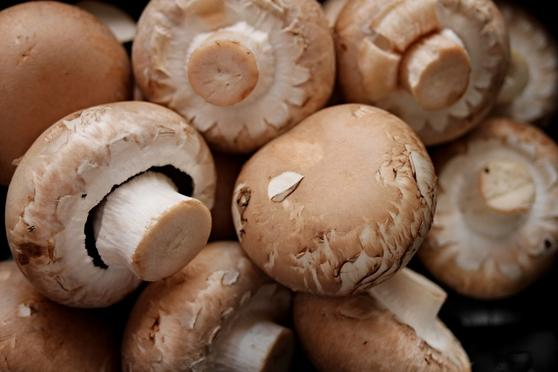champignon: (8, 100, 220, 307), (236, 101, 438, 297), (120, 236, 291, 372)
